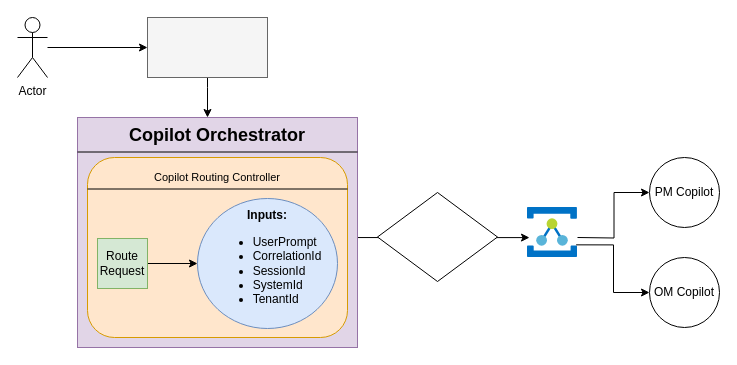
This 737x365 diagram has some shape labels left out. The shapes that lost their labels are listed below. From the top down, each one's centre as x and y in pixels, then its label:
At point (207, 47): "Web UI".
At point (437, 237): "DAPR (service Communication)".
